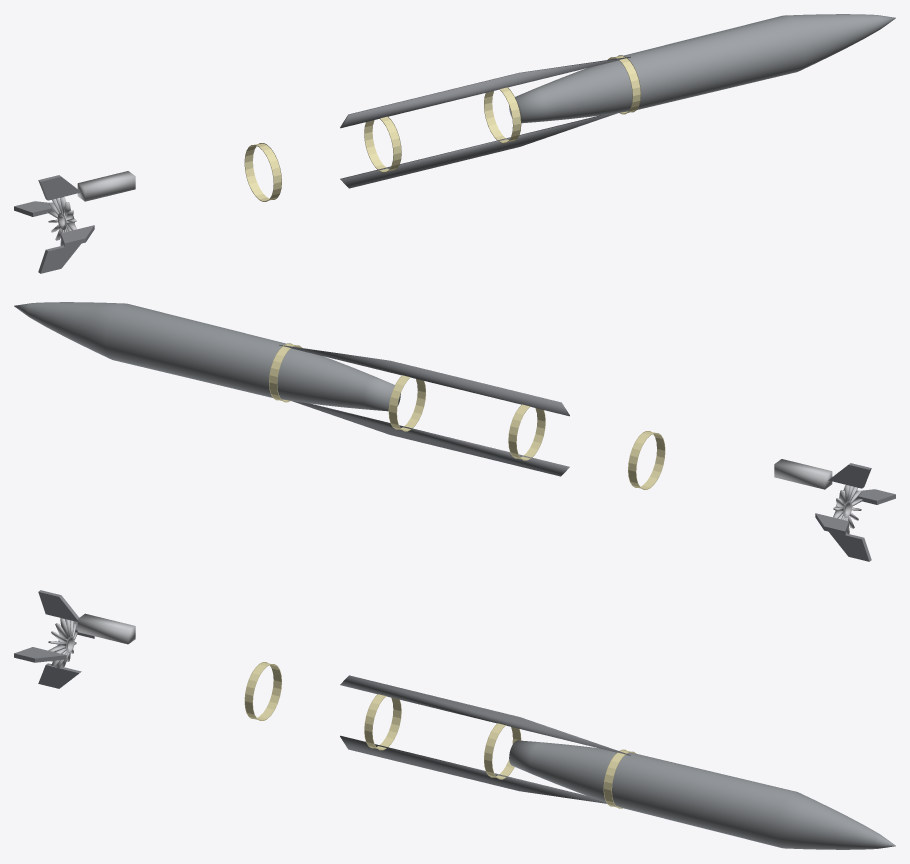
File: RU_TORP_6576A_LOD1.fbx
3 renders of one model, top to bottom at view 1: azimuth 30°, elevation 25°; view 2: azimuth 150°, elevation 25°; view 3: azimuth 330°, elevation 25°, orthographic.
Visible parts, largest first — view 1: WPN_RU_TORP_6576A_LOD1_Body, WPN_RU_TORP_6576A_LOD1_Detail, WPN_RU_TORP_6576A_LOD1_Marking, WPN_RU_TORP_6576A_LOD1_Fins, WPN_RU_TORP_6576A_LOD1_Propulsor; view 2: WPN_RU_TORP_6576A_LOD1_Body, WPN_RU_TORP_6576A_LOD1_Detail, WPN_RU_TORP_6576A_LOD1_Marking, WPN_RU_TORP_6576A_LOD1_Fins, WPN_RU_TORP_6576A_LOD1_Propulsor; view 3: WPN_RU_TORP_6576A_LOD1_Body, WPN_RU_TORP_6576A_LOD1_Detail, WPN_RU_TORP_6576A_LOD1_Marking, WPN_RU_TORP_6576A_LOD1_Fins, WPN_RU_TORP_6576A_LOD1_Propulsor.
Boxes of the visible parts, x1,y1,x2,y2 form: WPN_RU_TORP_6576A_LOD1_Body: [509, 14, 895, 123]; WPN_RU_TORP_6576A_LOD1_Detail: [77, 56, 630, 201]; WPN_RU_TORP_6576A_LOD1_Marking: [244, 55, 640, 201]; WPN_RU_TORP_6576A_LOD1_Fins: [14, 175, 94, 273]; WPN_RU_TORP_6576A_LOD1_Propulsor: [47, 197, 76, 245]; WPN_RU_TORP_6576A_LOD1_Body: [14, 302, 400, 411]; WPN_RU_TORP_6576A_LOD1_Detail: [279, 344, 832, 489]; WPN_RU_TORP_6576A_LOD1_Marking: [269, 343, 665, 489]; WPN_RU_TORP_6576A_LOD1_Fins: [815, 463, 895, 561]; WPN_RU_TORP_6576A_LOD1_Propulsor: [833, 485, 862, 533]; WPN_RU_TORP_6576A_LOD1_Body: [509, 740, 895, 849]; WPN_RU_TORP_6576A_LOD1_Detail: [77, 613, 630, 803]; WPN_RU_TORP_6576A_LOD1_Marking: [244, 662, 636, 808]; WPN_RU_TORP_6576A_LOD1_Fins: [14, 590, 94, 688]; WPN_RU_TORP_6576A_LOD1_Propulsor: [48, 618, 77, 668].
Size of the model in its own units: 11.02 by 1.13 by 1.13.
